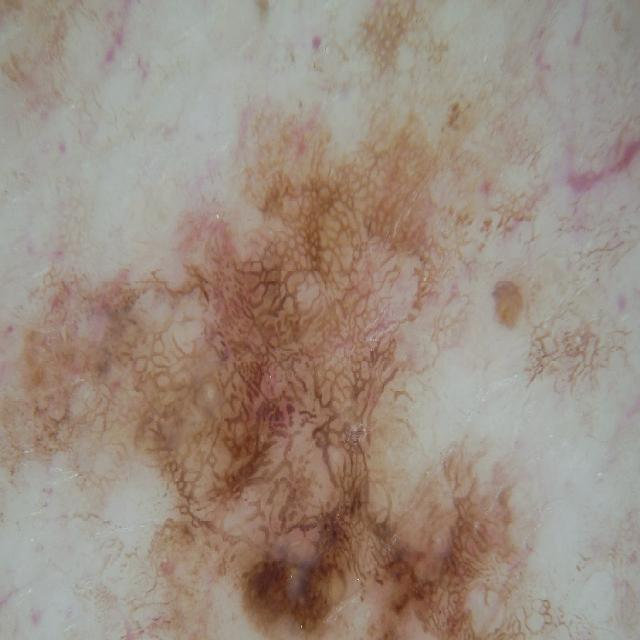Melanoma: (0, 100, 640, 640)
